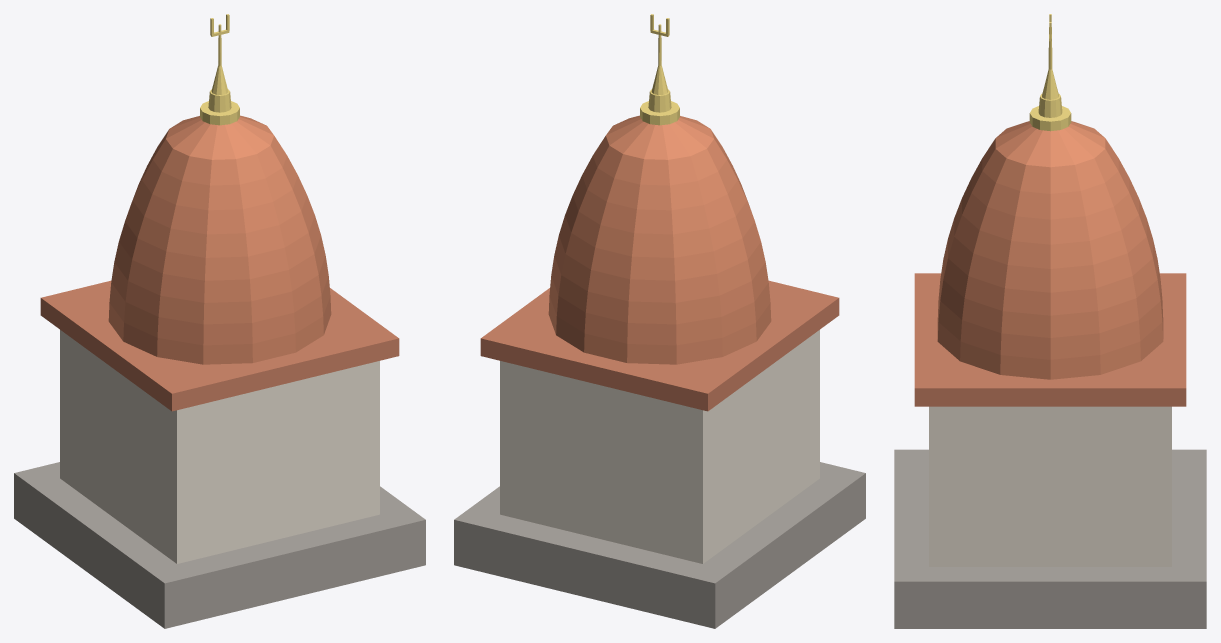
The model's file is sub_shrine.glb.
3 renders of one model, left to right at view 1: azimuth 30°, elevation 25°; view 2: azimuth 150°, elevation 25°; view 3: azimuth 270°, elevation 25°, orthographic. The views are drawn at different scales.
Parts seen in each view (by area): view 1: sub_shrine; view 2: sub_shrine; view 3: sub_shrine.
Boxes of the visible parts, left/top/right/bottom form: sub_shrine: left=14, top=14, right=425, bottom=628; sub_shrine: left=454, top=14, right=865, bottom=628; sub_shrine: left=894, top=14, right=1206, bottom=628.
Size of the model in its own units: 5.4 by 10.38 by 5.4.
